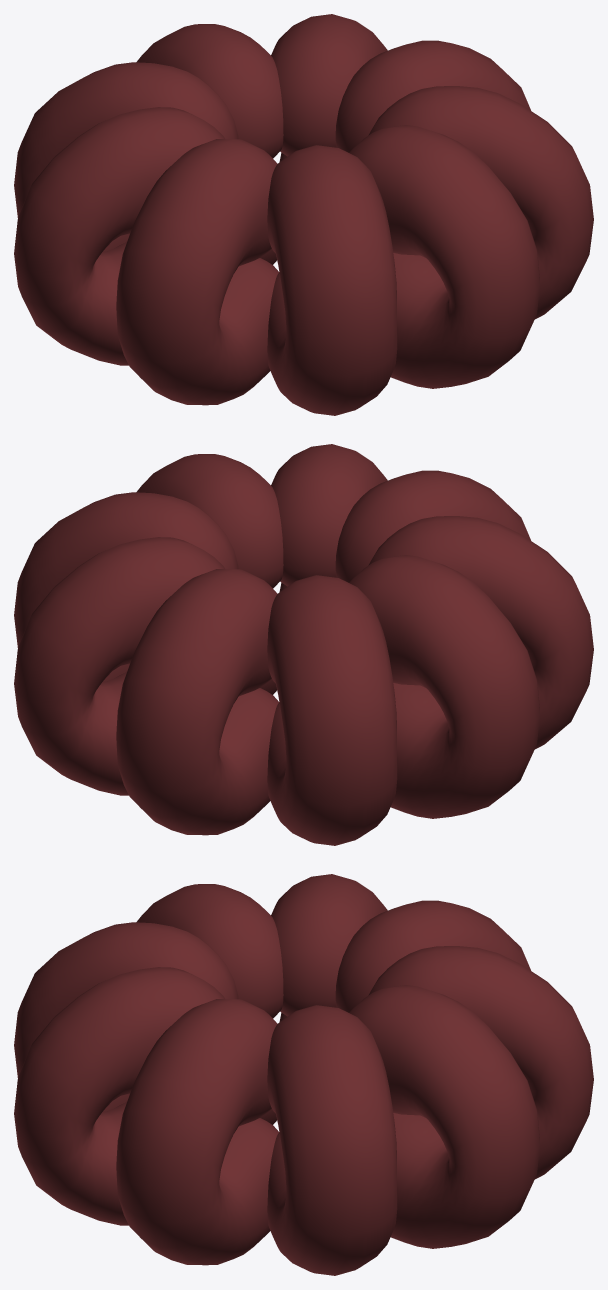
Rendered from masoor dal.fbx.
3 views of the same model, one above another, from view 1: azimuth 30°, elevation 25°; view 2: azimuth 150°, elevation 25°; view 3: azimuth 270°, elevation 25° (orthographic).
Visible parts, largest first — view 1: slubram'il.003, slubram'il.005, slubram'il.004, slubram'il.002, slubram'il.006, slubram'il.001, slubram'il.008, slubram'il, slubram'il.007; view 2: slubram'il, slubram'il.002, slubram'il.001, slubram'il.008, slubram'il.003, slubram'il.007, slubram'il.005, slubram'il.006, slubram'il.004; view 3: slubram'il.006, slubram'il.008, slubram'il.007, slubram'il.005, slubram'il, slubram'il.004, slubram'il.002, slubram'il.003, slubram'il.001.
Part boxes in pixels (x1,y1,x2,y2): slubram'il.003: (116, 139, 279, 405); slubram'il.005: (349, 125, 539, 388); slubram'il.004: (267, 145, 397, 415); slubram'il.002: (14, 107, 224, 365); slubram'il.006: (368, 86, 593, 319); slubram'il.001: (14, 62, 238, 252); slubram'il.008: (271, 14, 387, 161); slubram'il: (136, 24, 283, 264); slubram'il.007: (335, 40, 530, 152); slubram'il: (116, 569, 279, 835); slubram'il.002: (349, 555, 539, 818); slubram'il.001: (267, 575, 397, 845); slubram'il.008: (14, 537, 224, 795); slubram'il.003: (368, 516, 593, 749); slubram'il.007: (14, 492, 238, 682); slubram'il.005: (271, 444, 387, 591); slubram'il.006: (136, 454, 283, 694); slubram'il.004: (335, 470, 530, 582); slubram'il.006: (116, 999, 279, 1265); slubram'il.008: (349, 985, 539, 1248); slubram'il.007: (267, 1005, 397, 1275); slubram'il.005: (14, 967, 224, 1225); slubram'il: (368, 946, 593, 1179); slubram'il.004: (14, 922, 238, 1112); slubram'il.002: (271, 874, 387, 1021); slubram'il.003: (136, 884, 283, 1124); slubram'il.001: (335, 900, 530, 1012).
Size of the model in its own units: 42.23 by 19.54 by 41.84.
